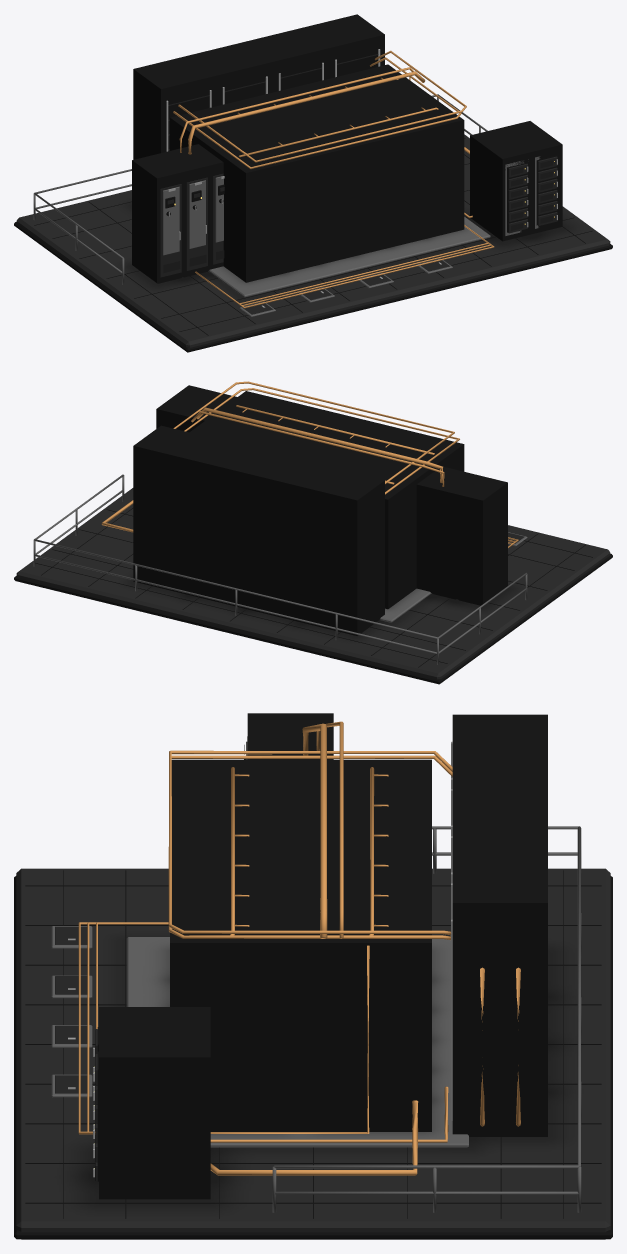
Rendered from facility.glb.
3 views of the same model, one above another, from view 1: azimuth 30°, elevation 25°; view 2: azimuth 150°, elevation 25°; view 3: azimuth 270°, elevation 25° (orthographic). The views are drawn at different scales.
Visible parts, largest first — view 1: GN_PICK_WORKLOADS, GN_PLATFORM_Platform, GN_PICK_COOLING, GN_PICK_POWER, GN_PICK_STORAGE, GN_PLATFORM_Steel, GN_PLATFORM_Dark, GN_POWER_Steel, GN_ACCENT_COOLING_Copper, GN_POWER_Graphite, GN_POWER_Copper, GN_ACCENT_POWER_Copper (+6 smaller); view 2: GN_PICK_COOLING, GN_PLATFORM_Platform, GN_PICK_WORKLOADS, GN_PICK_POWER, GN_PLATFORM_Dark, GN_PLATFORM_Steel, GN_PICK_STORAGE, GN_ACCENT_COOLING_Copper, GN_POWER_Copper, GN_ACCENT_WORKLOADS_Copper; view 3: GN_PICK_WORKLOADS, GN_PLATFORM_Platform, GN_PICK_COOLING, GN_PICK_STORAGE, GN_PLATFORM_Steel, GN_PLATFORM_Dark, GN_ACCENT_COOLING_Copper, GN_PICK_POWER, GN_POWER_Copper, GN_ACCENT_POWER_Copper, GN_PLATFORM_Graphite, GN_ACCENT_WORKLOADS_Copper (+4 smaller).
Part boxes in pixels (x1,y1,x2,y2): GN_PICK_WORKLOADS: (170, 64, 464, 282); GN_PLATFORM_Platform: (16, 134, 610, 347); GN_PICK_COOLING: (133, 14, 384, 159); GN_PICK_POWER: (132, 144, 223, 283); GN_PICK_STORAGE: (470, 121, 562, 241); GN_PLATFORM_Steel: (33, 94, 490, 316); GN_PLATFORM_Dark: (14, 138, 612, 352); GN_POWER_Steel: (163, 176, 223, 255); GN_ACCENT_COOLING_Copper: (173, 50, 466, 168); GN_POWER_Graphite: (160, 173, 224, 277); GN_POWER_Copper: (179, 67, 425, 154); GN_ACCENT_POWER_Copper: (195, 77, 494, 308); GN_PICK_COOLING: (133, 425, 384, 635); GN_PLATFORM_Platform: (16, 488, 610, 679); GN_PICK_WORKLOADS: (189, 391, 464, 609); GN_PICK_POWER: (416, 466, 507, 604); GN_PLATFORM_Dark: (14, 508, 612, 684); GN_PLATFORM_Steel: (33, 474, 527, 664); GN_PICK_STORAGE: (156, 385, 237, 432); GN_ACCENT_COOLING_Copper: (173, 381, 459, 494); GN_POWER_Copper: (191, 407, 444, 486); GN_ACCENT_WORKLOADS_Copper: (236, 405, 434, 484); GN_PICK_WORKLOADS: (170, 759, 431, 1131); GN_PLATFORM_Platform: (16, 868, 610, 1239); GN_PICK_COOLING: (452, 714, 547, 1136); GN_PICK_STORAGE: (99, 1007, 210, 1199); GN_PLATFORM_Steel: (51, 826, 581, 1212); GN_PLATFORM_Dark: (14, 870, 612, 1239); GN_ACCENT_COOLING_Copper: (168, 750, 452, 939); GN_PICK_POWER: (247, 713, 333, 759); GN_POWER_Copper: (302, 721, 343, 938); GN_ACCENT_POWER_Copper: (78, 922, 369, 1134); GN_PLATFORM_Graphite: (55, 926, 87, 1093); GN_ACCENT_WORKLOADS_Copper: (230, 767, 388, 935).
Size of the model in its own units: 10.86 by 3.59 by 7.66.
Materials: 8 (3 with a texture image).
